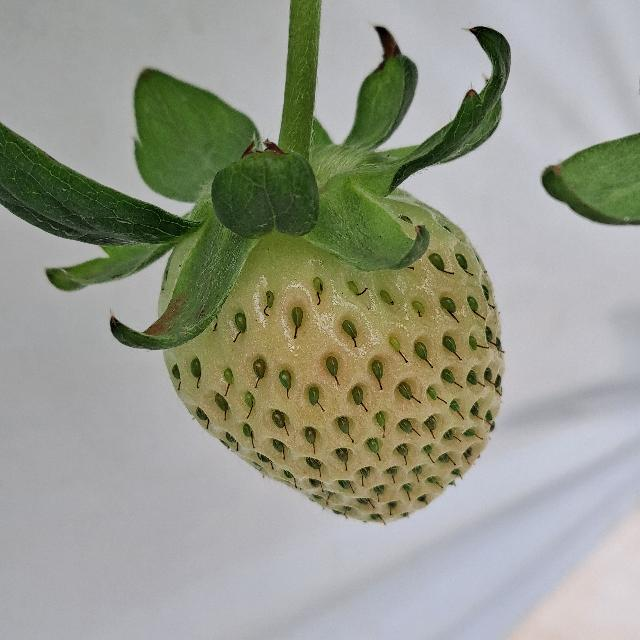Health_25: (158, 188, 504, 522)
